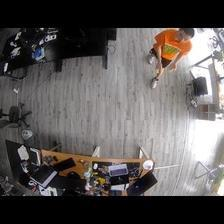normal: (145, 29, 193, 87)
